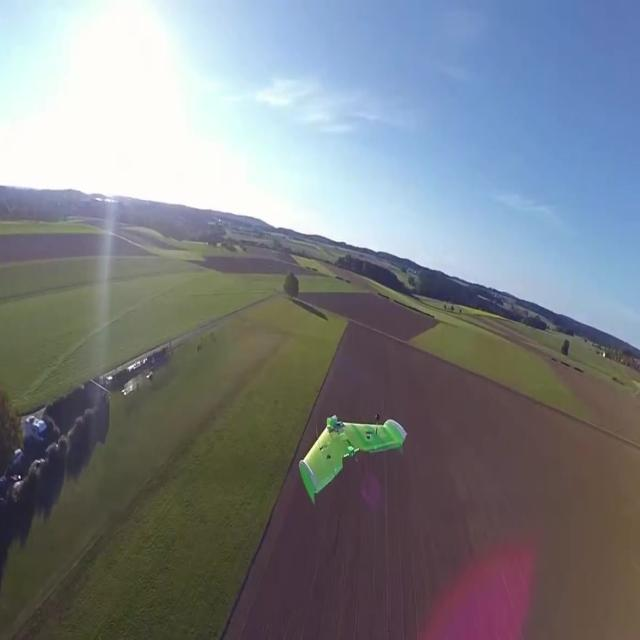iha: (330, 438, 374, 467)
